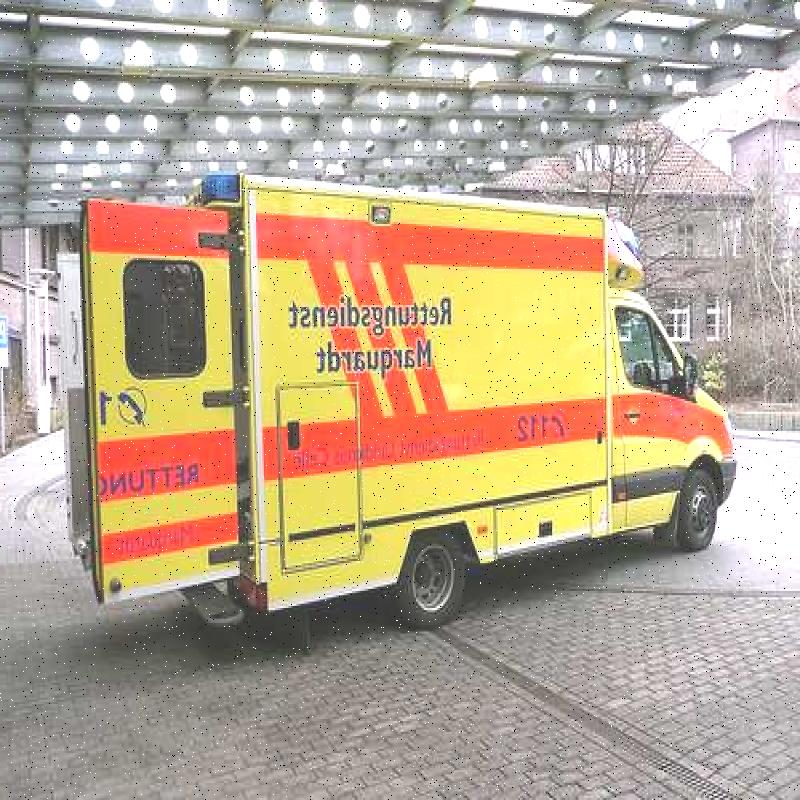AmbulanceSiren: (195, 120, 255, 216)
